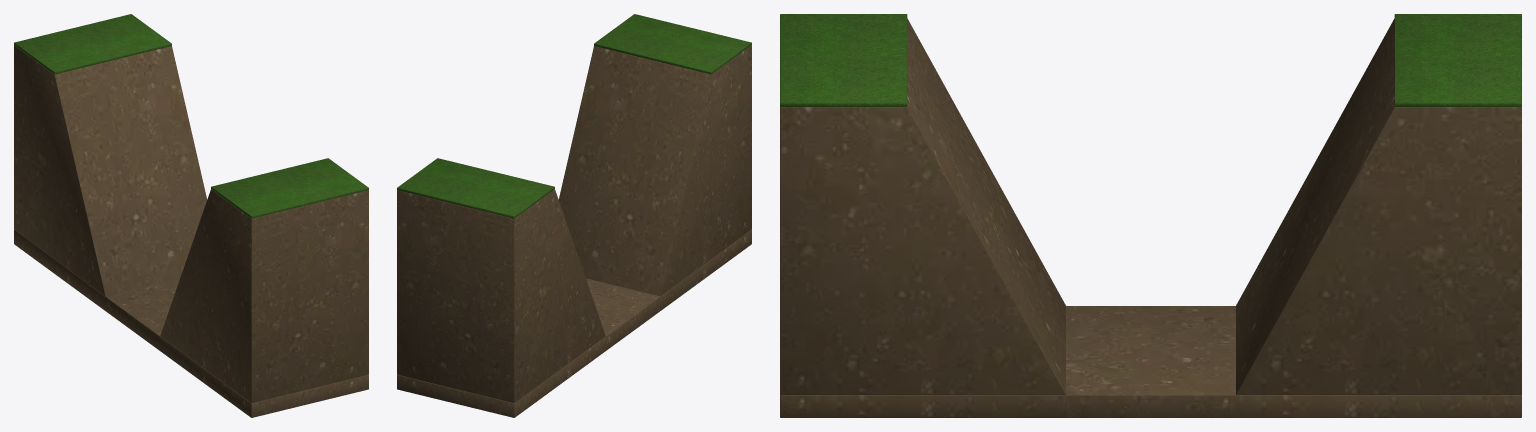
The model's file is TER-ESC-002_lod1.glb.
3 renders of one model, left to right at view 1: azimuth 30°, elevation 25°; view 2: azimuth 150°, elevation 25°; view 3: azimuth 270°, elevation 25°, orthographic. The views are drawn at different scales.
Visible parts, largest first — view 1: TER-ESC-002_talude1, TER-ESC-002_talude-1, TER-ESC-002_fundo, TER-ESC-002_grama1, TER-ESC-002_grama-1; view 2: TER-ESC-002_talude-1, TER-ESC-002_talude1, TER-ESC-002_fundo, TER-ESC-002_grama1, TER-ESC-002_grama-1; view 3: TER-ESC-002_talude1, TER-ESC-002_talude-1, TER-ESC-002_fundo, TER-ESC-002_grama1, TER-ESC-002_grama-1.
Boxes of the visible parts, box(x1,y1,x2,y2) form: TER-ESC-002_talude1: box(14, 45, 207, 296); TER-ESC-002_talude-1: box(160, 189, 368, 403); TER-ESC-002_fundo: box(14, 229, 368, 417); TER-ESC-002_grama1: box(14, 14, 171, 74); TER-ESC-002_grama-1: box(211, 158, 368, 218); TER-ESC-002_talude-1: box(558, 45, 751, 296); TER-ESC-002_talude1: box(397, 189, 605, 403); TER-ESC-002_fundo: box(397, 229, 751, 417); TER-ESC-002_grama1: box(397, 158, 554, 218); TER-ESC-002_grama-1: box(594, 14, 751, 74); TER-ESC-002_talude1: box(1236, 18, 1521, 394); TER-ESC-002_talude-1: box(780, 18, 1065, 394); TER-ESC-002_fundo: box(780, 306, 1521, 417); TER-ESC-002_grama1: box(1394, 14, 1521, 106); TER-ESC-002_grama-1: box(780, 14, 907, 106).
Size of the model in its own units: 1 by 1.64 by 3.5.
Materials: 2 (2 with a texture image).
